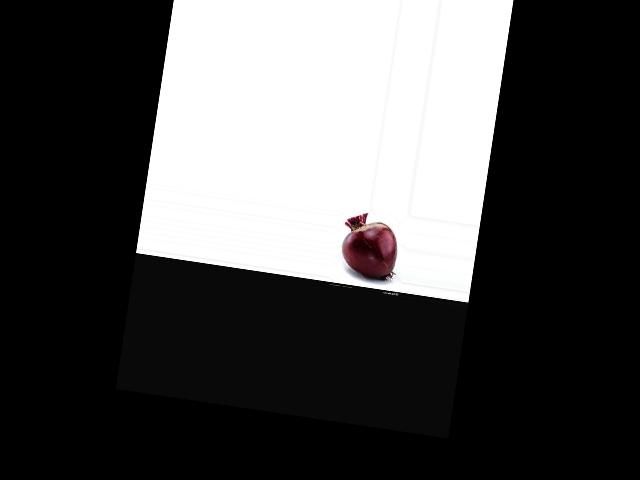beet: (337, 210, 401, 280)
